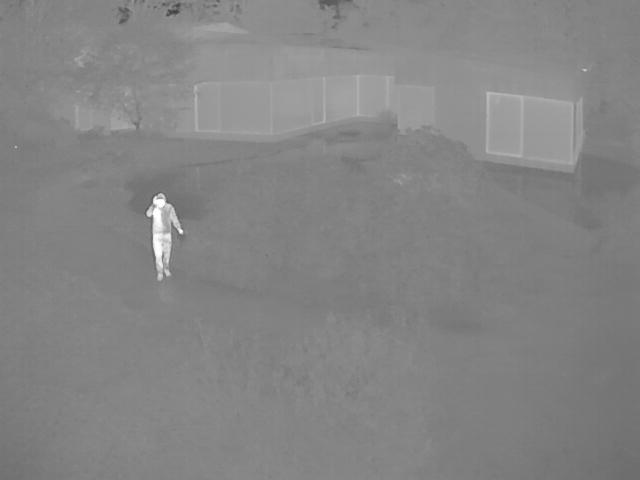person: (145, 192, 185, 283)
